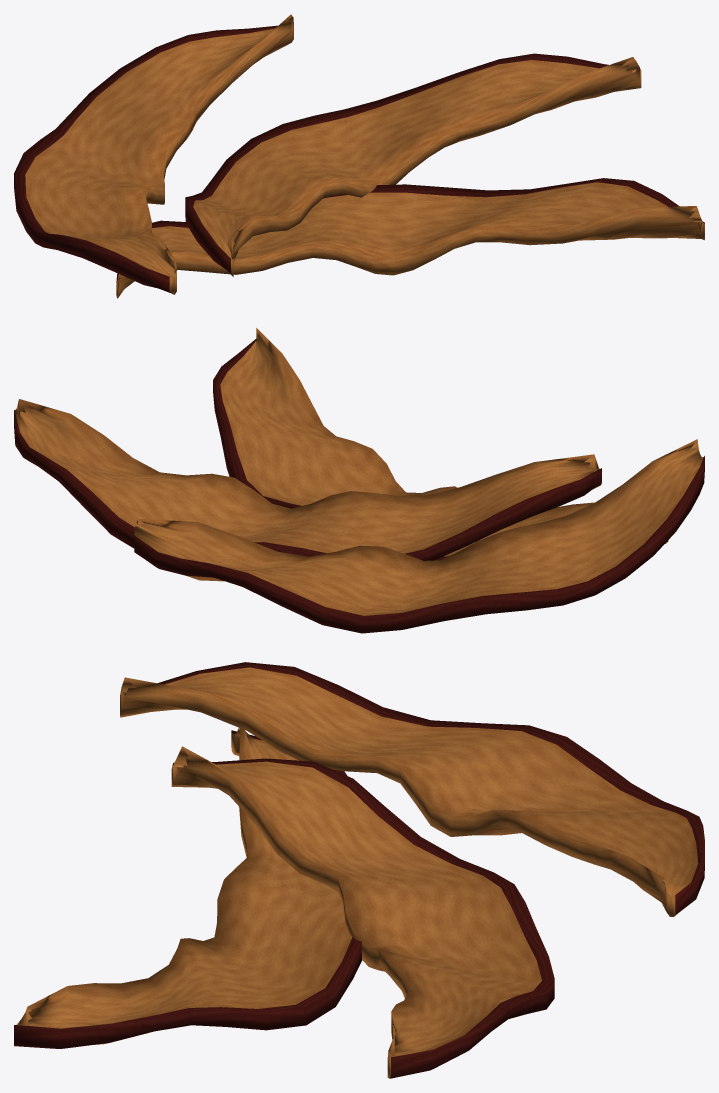
The model's file is B47ANCEDProvisions_DriedAppleSlices.fbx.
3 renders of one model, top to bottom at view 1: azimuth 30°, elevation 25°; view 2: azimuth 150°, elevation 25°; view 3: azimuth 270°, elevation 25°, orthographic. The views are drawn at different scales.
Visible parts, largest first — view 1: B47ANCEDProvisions_DriedAppleSlices; view 2: B47ANCEDProvisions_DriedAppleSlices; view 3: B47ANCEDProvisions_DriedAppleSlices.
Part boxes in pixels (bbox=[...]): B47ANCEDProvisions_DriedAppleSlices: bbox=[14, 14, 704, 298]; B47ANCEDProvisions_DriedAppleSlices: bbox=[14, 328, 704, 633]; B47ANCEDProvisions_DriedAppleSlices: bbox=[14, 662, 704, 1078].
Bounding box in the file's own units: 8.91 × 1.49 × 7.02.
Materials: 1 (1 with a texture image).
